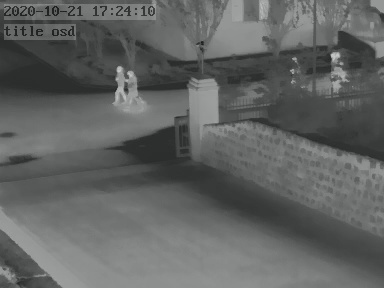person: (329, 49, 346, 88), (113, 64, 127, 103), (125, 65, 139, 103)
